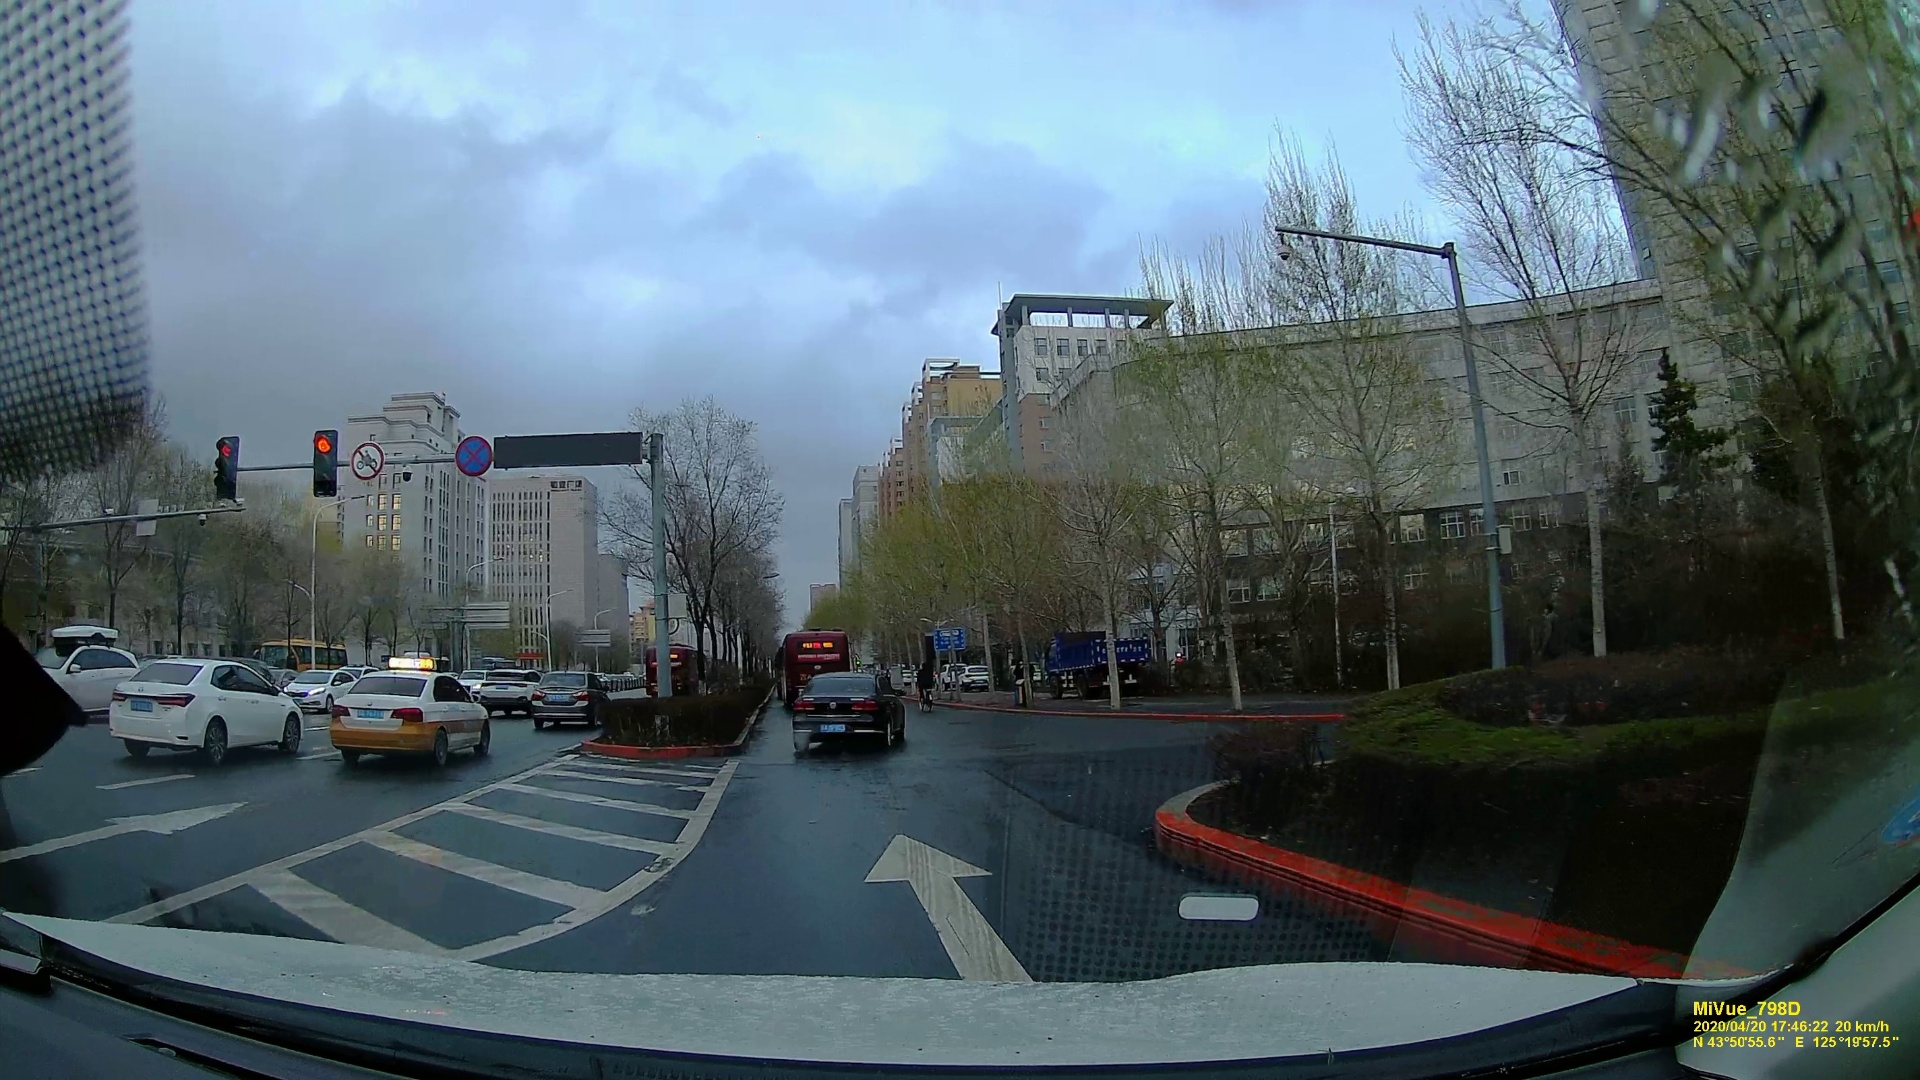bus: (779, 632, 854, 700)
person: (917, 662, 934, 707), (1011, 657, 1025, 695)
traffic_sign: (454, 433, 488, 475), (315, 429, 335, 496), (212, 432, 234, 494), (351, 442, 377, 480), (931, 629, 965, 651)
truck: (1035, 631, 1148, 698)
vehicle: (110, 655, 297, 762), (323, 669, 484, 768), (788, 672, 904, 751), (42, 633, 140, 717), (526, 670, 608, 729)
